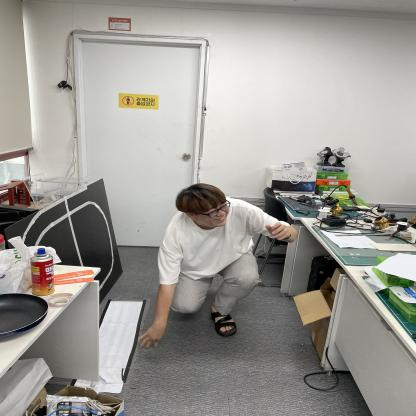fall: (144, 178, 300, 354)
